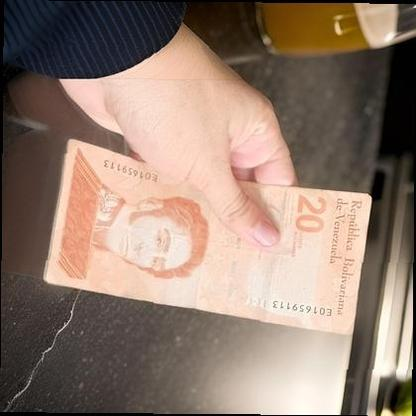twenty-front-vef: (42, 138, 372, 336)
